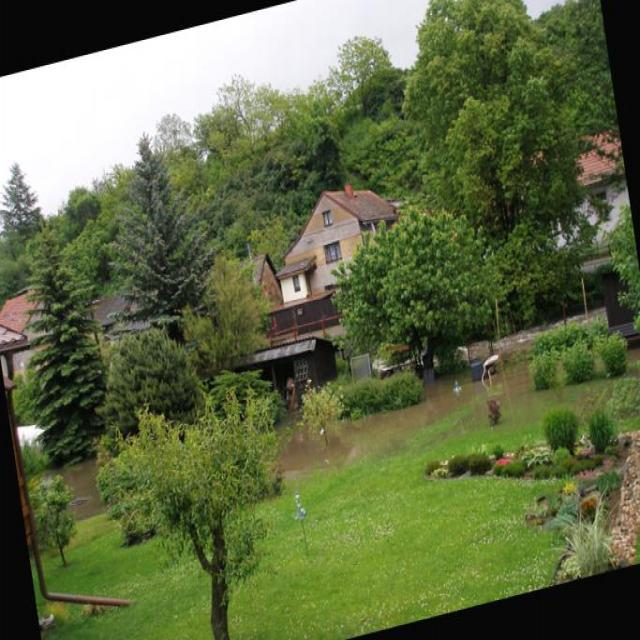flood: (263, 333, 533, 518)
